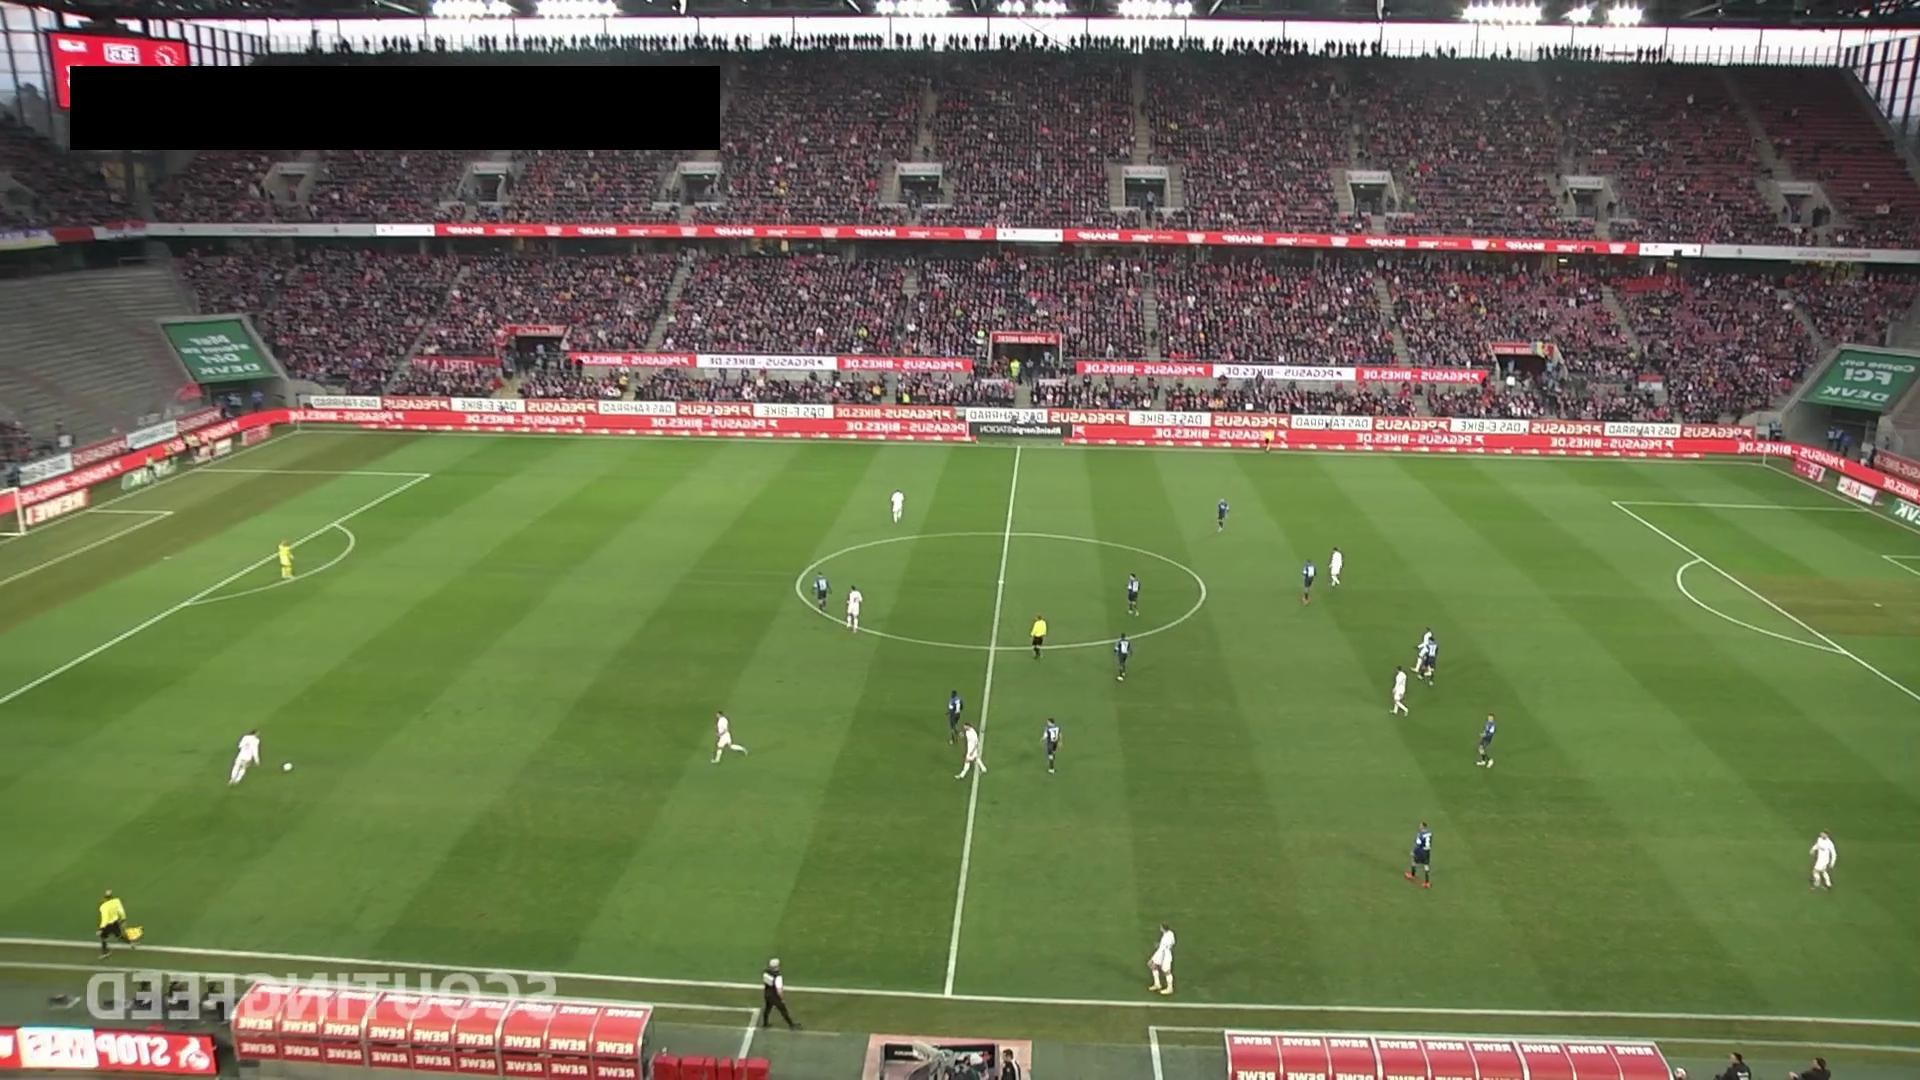ball: (282, 762, 294, 773)
goalkeeper: (278, 538, 295, 580)
player: (226, 727, 262, 786), (710, 710, 749, 764), (1147, 922, 1176, 994), (954, 721, 987, 780), (1405, 820, 1433, 889), (1808, 830, 1836, 890), (1040, 716, 1061, 774), (1476, 713, 1497, 768), (1410, 626, 1433, 674), (1417, 637, 1438, 686), (1113, 631, 1133, 680), (1390, 665, 1409, 716), (947, 689, 964, 745), (812, 572, 832, 614), (1300, 558, 1317, 606), (846, 584, 863, 632), (1126, 572, 1141, 617), (1328, 546, 1343, 588), (890, 489, 905, 523), (1216, 498, 1230, 532)
referee: (96, 889, 143, 959), (1029, 613, 1047, 660), (1262, 427, 1272, 455)
